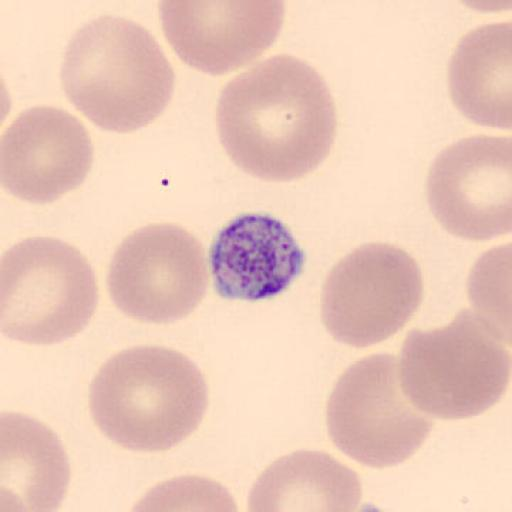Platelet: (206, 208, 310, 304)
RBC: (214, 52, 339, 184), (58, 13, 177, 135), (86, 343, 211, 454), (324, 348, 435, 470), (398, 314, 512, 422), (104, 220, 210, 327), (319, 242, 425, 349), (2, 234, 100, 347), (156, 1, 288, 77), (424, 132, 512, 242), (2, 103, 95, 206), (245, 447, 364, 512), (446, 19, 512, 130), (2, 410, 72, 511), (466, 239, 512, 352), (122, 471, 240, 512), (446, 0, 512, 19), (0, 69, 14, 137), (340, 499, 410, 512), (1, 484, 33, 512), (449, 0, 512, 14)
